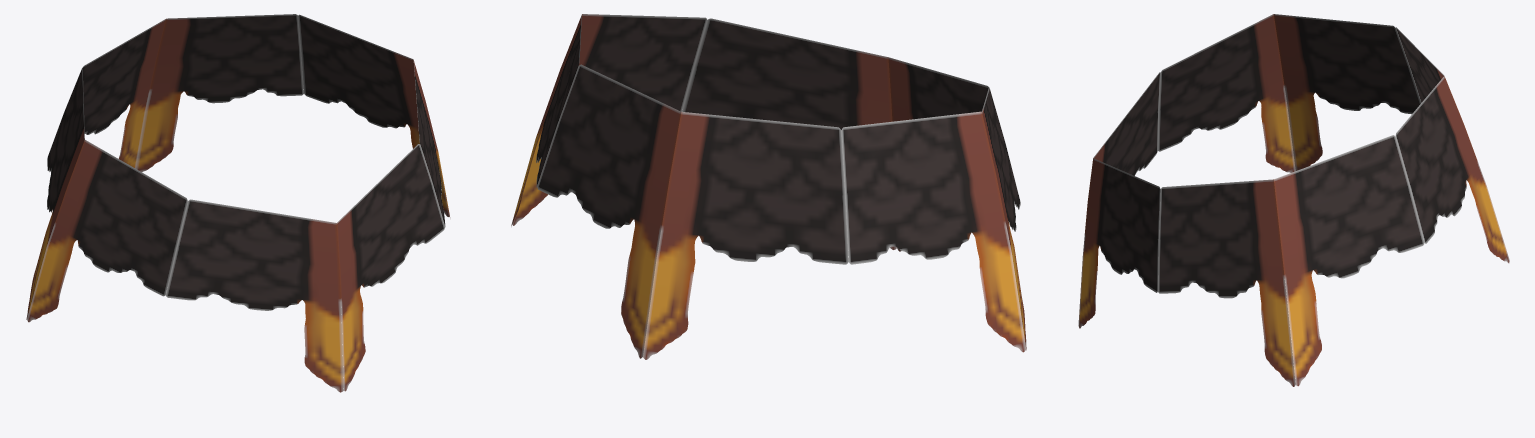
File: KingKnightKilt.fbx
3 views of the same model, side by side, from view 1: azimuth 30°, elevation 25°; view 2: azimuth 150°, elevation 25°; view 3: azimuth 270°, elevation 25° (orthographic). The views are drawn at different scales.
Visible parts, largest first — view 1: Kilt; view 2: Kilt; view 3: Kilt.
Boxes of the visible parts, x1,y1,x2,y2 form: Kilt: (26,14,450,392); Kilt: (511,14,1026,359); Kilt: (1078,14,1509,386).
Size of the model in its own units: 1.99 by 1.19 by 1.69.
